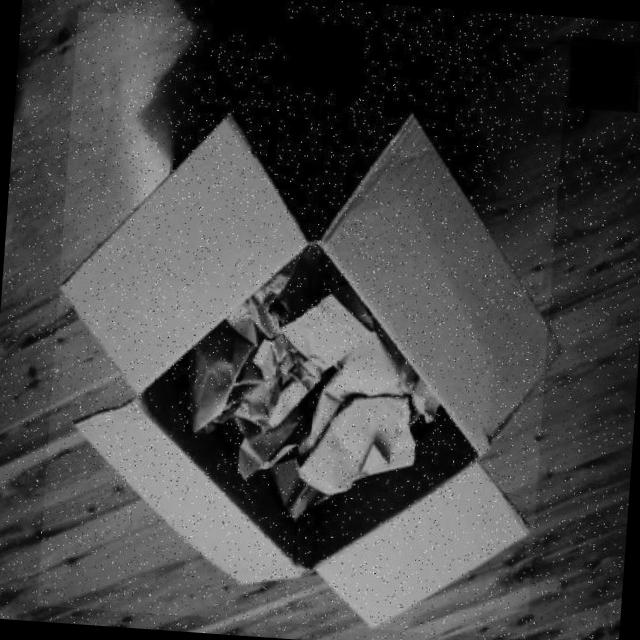box: (36, 10, 567, 639)
